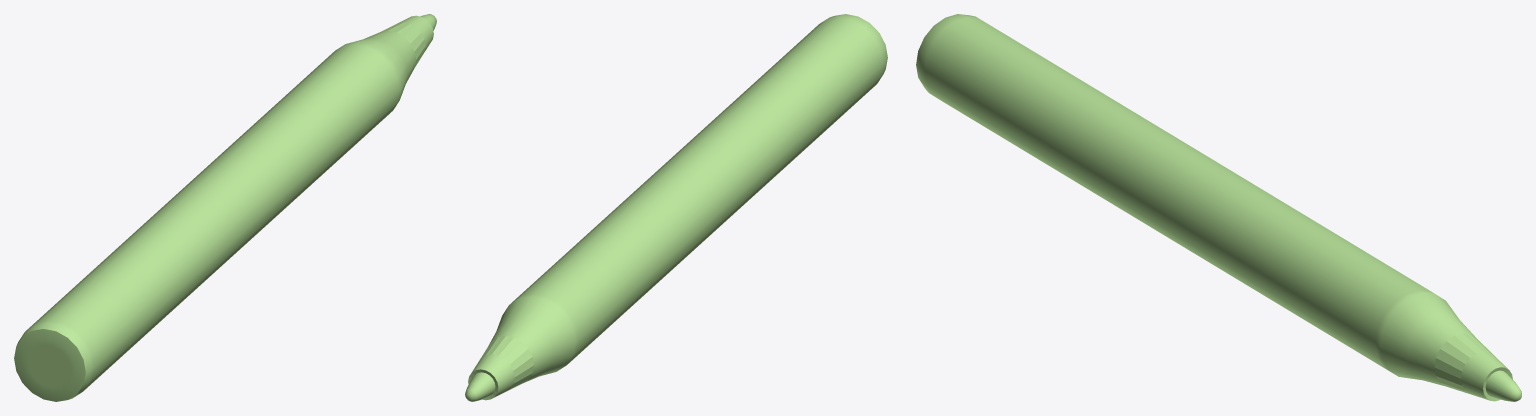
The model's file is stift_2_000.obj.
3 views of the same model, side by side, from view 1: azimuth 30°, elevation 25°; view 2: azimuth 210°, elevation 25°; view 3: azimuth 270°, elevation 25° (orthographic). The views are drawn at different scales.
Parts seen in each view (by area): view 1: Stift; view 2: Stift; view 3: Stift.
Boxes of the visible parts, x1,y1,x2,y2 form: Stift: (14,14,436,401); Stift: (465,14,887,401); Stift: (916,14,1521,401).
Bounding box in the file's own units: 4.1 × 0.4394 × 2.97.
